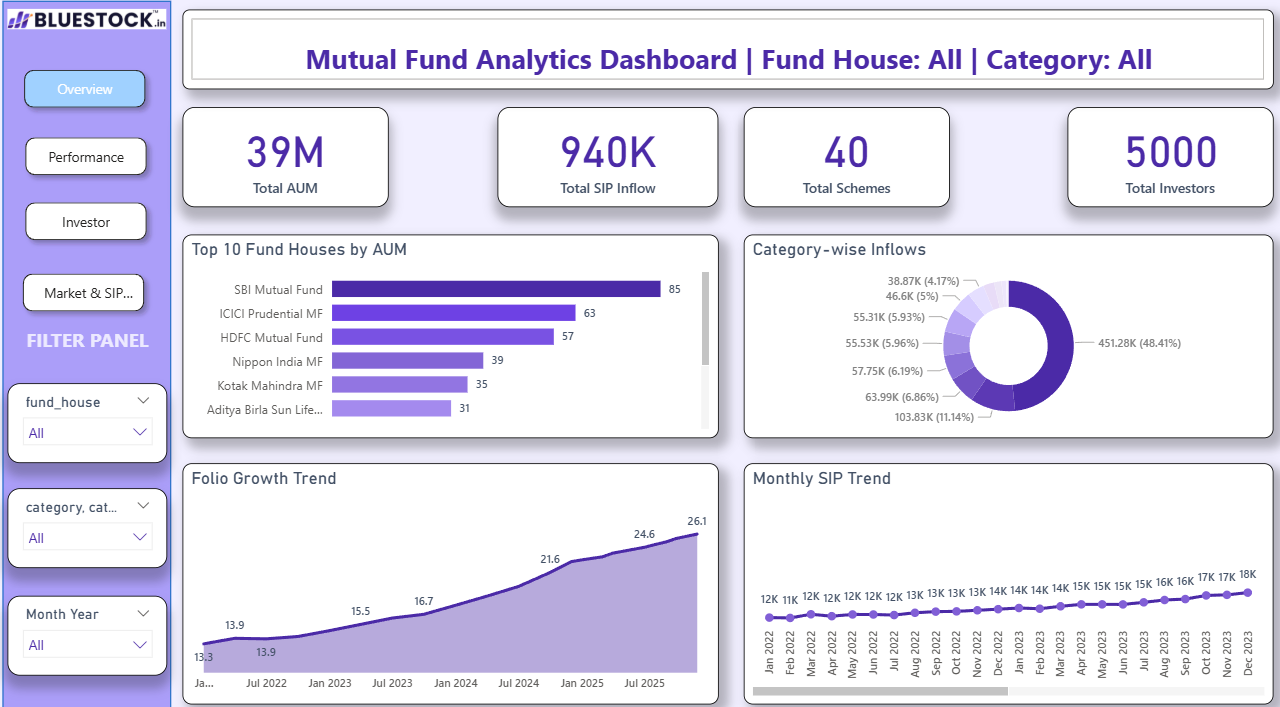

The dashboard page shown, as its layout file describes it:
{"tool":"powerbi","page":{"name":"Overview","canvas":[1280,720],"ordinal":0},"visuals":[{"type":"group","id":"g1","title":"Group 1","box":[12.3,8.6,165.6,701.8],"z":0},{"type":"shape","box":[12.3,8.6,165.6,701.8],"z":0,"group":"g1"},{"type":"card","title":"Total AUM","fields":{"Values":["Table.Total AUM"]},"box":[189,112.9,202.5,98.2],"z":1000},{"type":"card","title":"Total AUM","fields":{"Values":["Table.Total Investors"]},"box":[1057.7,112.9,202.5,98.2],"z":2000},{"type":"card","title":"Total AUM","fields":{"Values":["Table.Total Schemes"]},"box":[739.9,112.9,202.5,98.2],"z":3000},{"type":"card","title":"Total AUM","fields":{"Values":["Table.Total SIP Inflow"]},"box":[498.2,112.9,217.2,98.2],"z":4000},{"type":"clusteredBarChart","title":"Top 10 Fund Houses by AUM","fields":{"Category":["public aum_fund_house.fund_house","public fund_master_features.fund_house"],"Y":["Sum(public aum_fund_house.aum_lakh_crore)"]},"box":[189,238,526.4,200],"z":5000},{"type":"lineChart","title":"Monthly SIP Trend","fields":{"Y":["Sum(public monthly_sip_features.sip_inflow_crore)"],"Category":["public monthly_sip_features.Month Year.Variation.Date Hierarchy.Year"]},"box":[739.9,462.6,520.2,236.8],"z":6000},{"type":"donutChart","title":"Category-wise Inflows","fields":{"Y":["Sum(public category_inflows.net_inflow_crore)"],"Category":["public category_inflows.category"]},"box":[739.9,238,520.2,200],"z":7000},{"type":"lineChart","title":"Folio Growth Trend","fields":{"Y":["Sum(public industry_folio_features.total_folios_crore)"],"Category":["public industry_folio_features.month.Variation.Date Hierarchy.Year","public industry_folio_features.month.Variation.Date Hierarchy.Quarter","public industry_folio_features.month.Variation.Date Hierarchy.Month","public industry_folio_features.month.Variation.Date Hierarchy.Day"]},"box":[189,462.6,526.4,236.8],"z":8000},{"type":"slicer","fields":{"Values":["DimFundHouse.fund_house"]},"box":[17.2,384.1,157.1,78.5],"z":9000},{"type":"slicer","fields":{"Values":["public category_inflows.category","DimCategory.category"]},"box":[17.2,487.1,157.1,78.5],"z":10000},{"type":"cardVisual","fields":{"Data":["Table.Overview1 Dynamic Title"]},"box":[189,17.2,1071.2,78.5],"z":11000},{"type":"pageNavigator","box":[24.5,67.5,137.4,55.2],"z":12000},{"type":"image","box":[12.3,8.6,165.6,35.6],"z":13000,"group":"g1"},{"type":"pageNavigator","box":[25.8,133.7,137.4,55.2],"z":13000},{"type":"pageNavigator","box":[25.8,197.5,137.4,55.2],"z":14000},{"type":"pageNavigator","box":[23.3,267.5,137.4,55.2],"z":15000},{"type":"textbox","box":[20.9,323.9,149.7,47.9],"z":16000},{"type":"slicer","fields":{"Values":["DateTable.Month Year"]},"box":[17.2,592.6,157.1,78.5],"z":16001}]}

Visuals, with their boxes on the page's 1280x720 design canvas (x1, y1, x2, y2). These are canvas units, not pixel positions in the 1280x707 screenshot, which may show the page scaled, cropped or inside an application window:
"Group 1" group: (x1=12, y1=9, x2=178, y2=710)
shape: (x1=12, y1=9, x2=178, y2=710)
"Total AUM" card: (x1=189, y1=113, x2=392, y2=211)
"Total AUM" card: (x1=1058, y1=113, x2=1260, y2=211)
"Total AUM" card: (x1=740, y1=113, x2=942, y2=211)
"Total AUM" card: (x1=498, y1=113, x2=715, y2=211)
"Top 10 Fund Houses by AUM" clusteredBarChart: (x1=189, y1=238, x2=715, y2=438)
"Monthly SIP Trend" lineChart: (x1=740, y1=463, x2=1260, y2=699)
"Category-wise Inflows" donutChart: (x1=740, y1=238, x2=1260, y2=438)
"Folio Growth Trend" lineChart: (x1=189, y1=463, x2=715, y2=699)
slicer - DimFundHouse.fund_house: (x1=17, y1=384, x2=174, y2=463)
slicer - public category_inflows.category x DimCategory.category: (x1=17, y1=487, x2=174, y2=566)
cardVisual - Table.Overview1 Dynamic Title: (x1=189, y1=17, x2=1260, y2=96)
pageNavigator: (x1=24, y1=68, x2=162, y2=123)
image: (x1=12, y1=9, x2=178, y2=44)
pageNavigator: (x1=26, y1=134, x2=163, y2=189)
pageNavigator: (x1=26, y1=198, x2=163, y2=253)
pageNavigator: (x1=23, y1=268, x2=161, y2=323)
textbox: (x1=21, y1=324, x2=171, y2=372)
slicer - DateTable.Month Year: (x1=17, y1=593, x2=174, y2=671)
